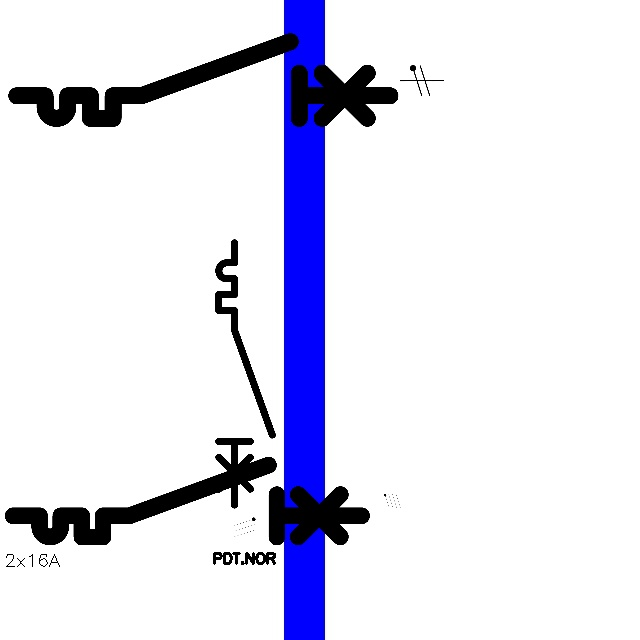interruptor_termomagnetico: (7, 32, 399, 128), (4, 456, 371, 546), (212, 236, 279, 512)
